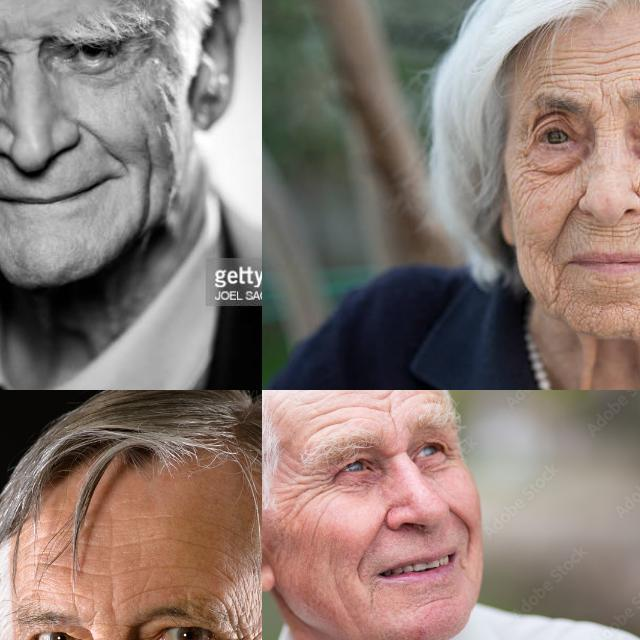bunny_line: (630, 169, 640, 195)
chin: (579, 300, 599, 332), (420, 594, 456, 608), (608, 296, 634, 314)
crows_feet: (300, 469, 332, 499), (219, 616, 256, 640), (515, 140, 531, 180), (447, 443, 463, 467)
forehead: (132, 526, 222, 560), (37, 554, 109, 582), (136, 578, 202, 598), (304, 398, 341, 432), (536, 54, 572, 86), (591, 50, 629, 80), (340, 390, 367, 422), (371, 394, 399, 416)
frown_line: (89, 596, 125, 640), (593, 86, 629, 114)
gummy_smile: (74, 120, 124, 166), (360, 515, 386, 567), (447, 506, 478, 544), (554, 197, 582, 236)
masseter: (138, 148, 156, 220), (308, 514, 328, 544), (522, 237, 536, 263)
sad_smile: (549, 258, 567, 294)
smoker_lines: (592, 226, 634, 247)
